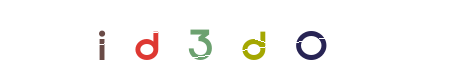0: (223, 0, 303, 80)
3: (187, 0, 267, 80)
D: (164, 0, 244, 80), (215, 0, 295, 80)
I: (108, 0, 188, 80)
